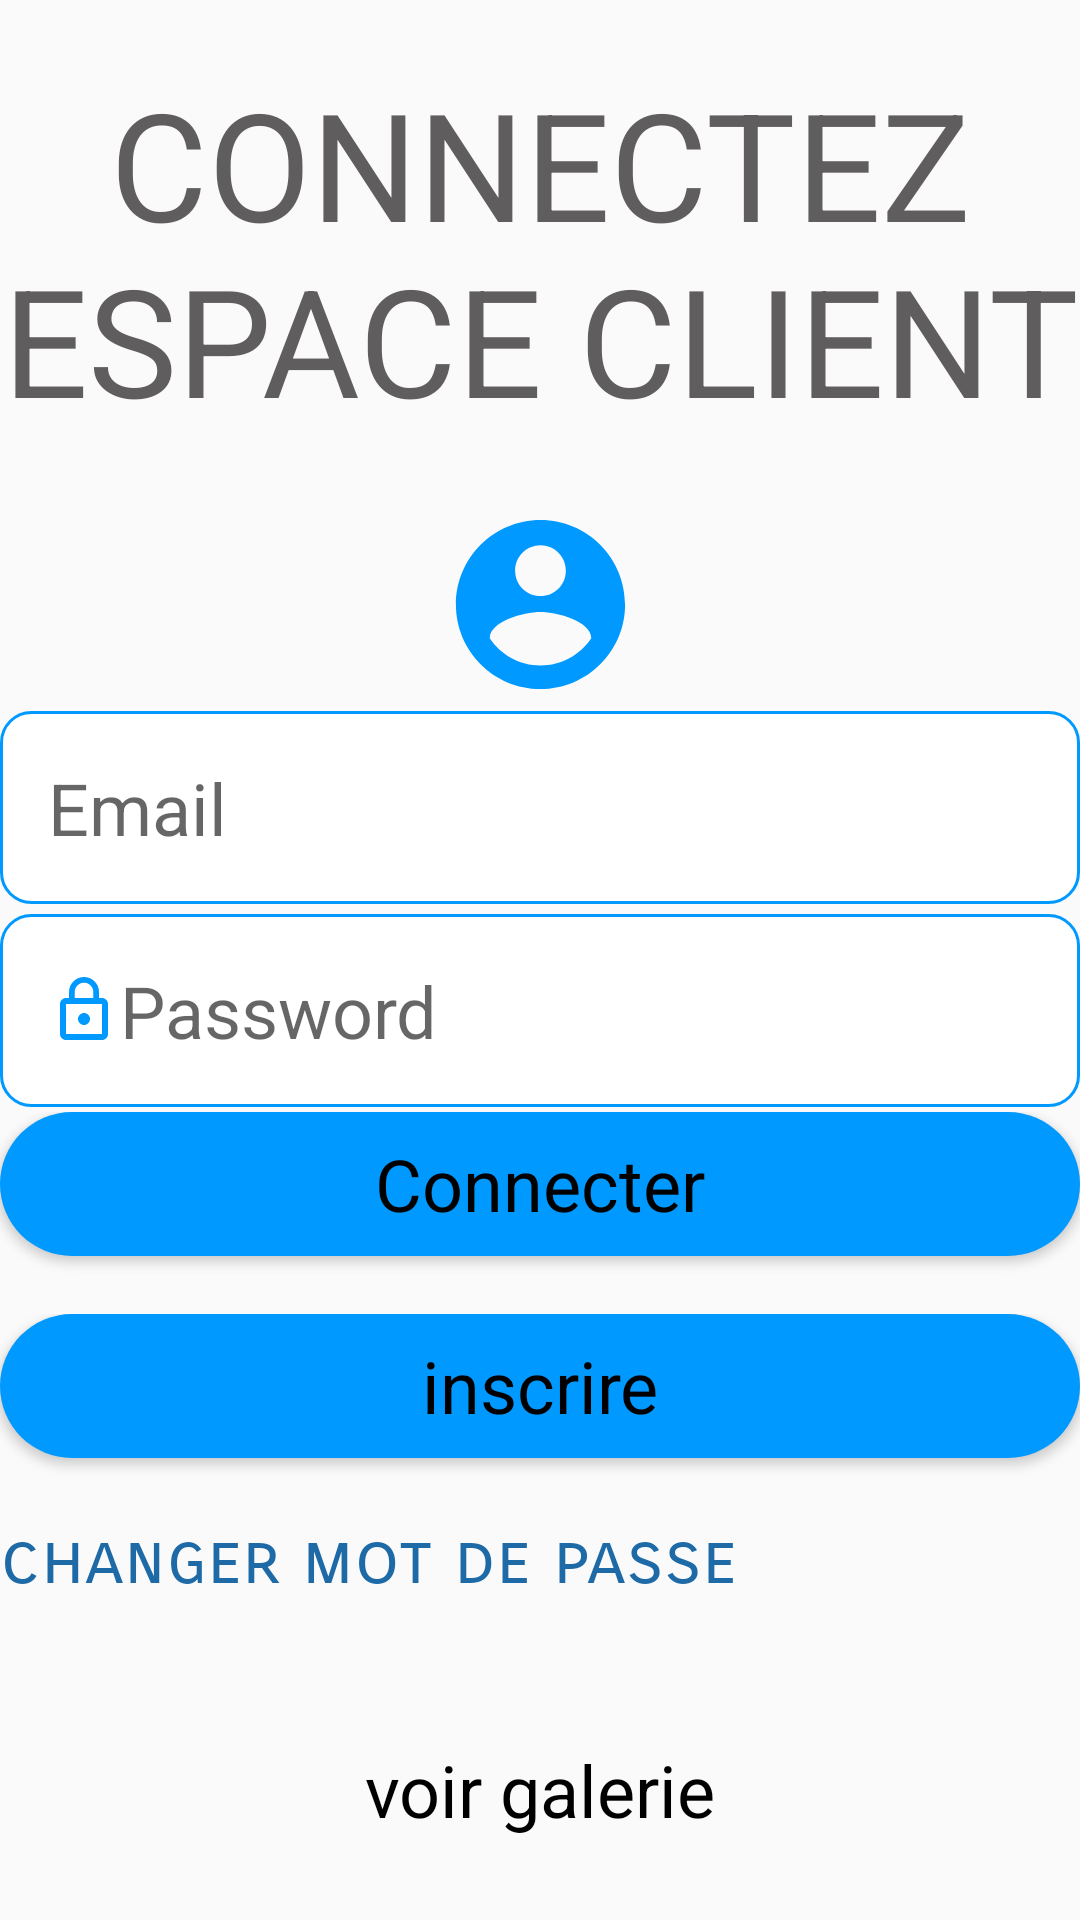

Icons on this 1080×1920 Android screen, each with the point to tap as point (x, y):
account circle: point (540, 604)
